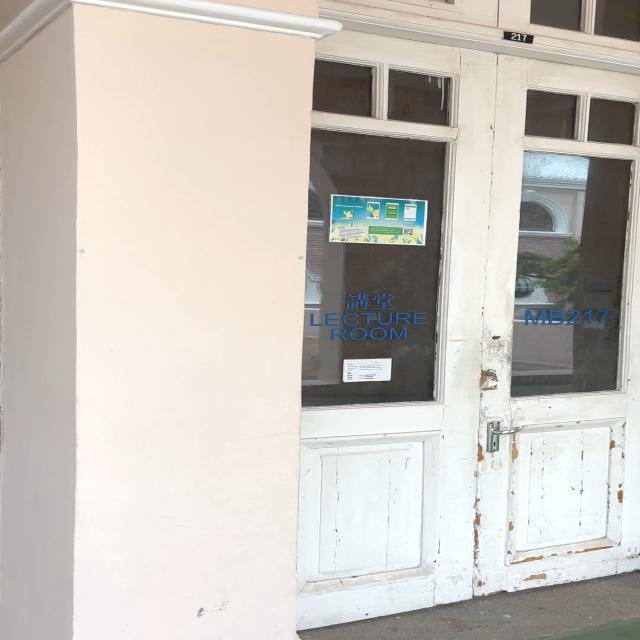MB217_roomNum: (499, 26, 542, 47)
MB217_windowNum: (524, 305, 612, 330)
pillar: (0, 0, 315, 636)
